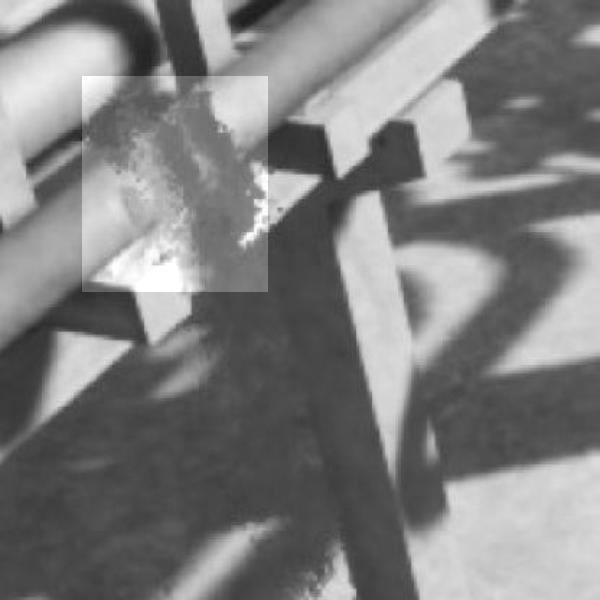gas: (82, 76, 268, 292)
